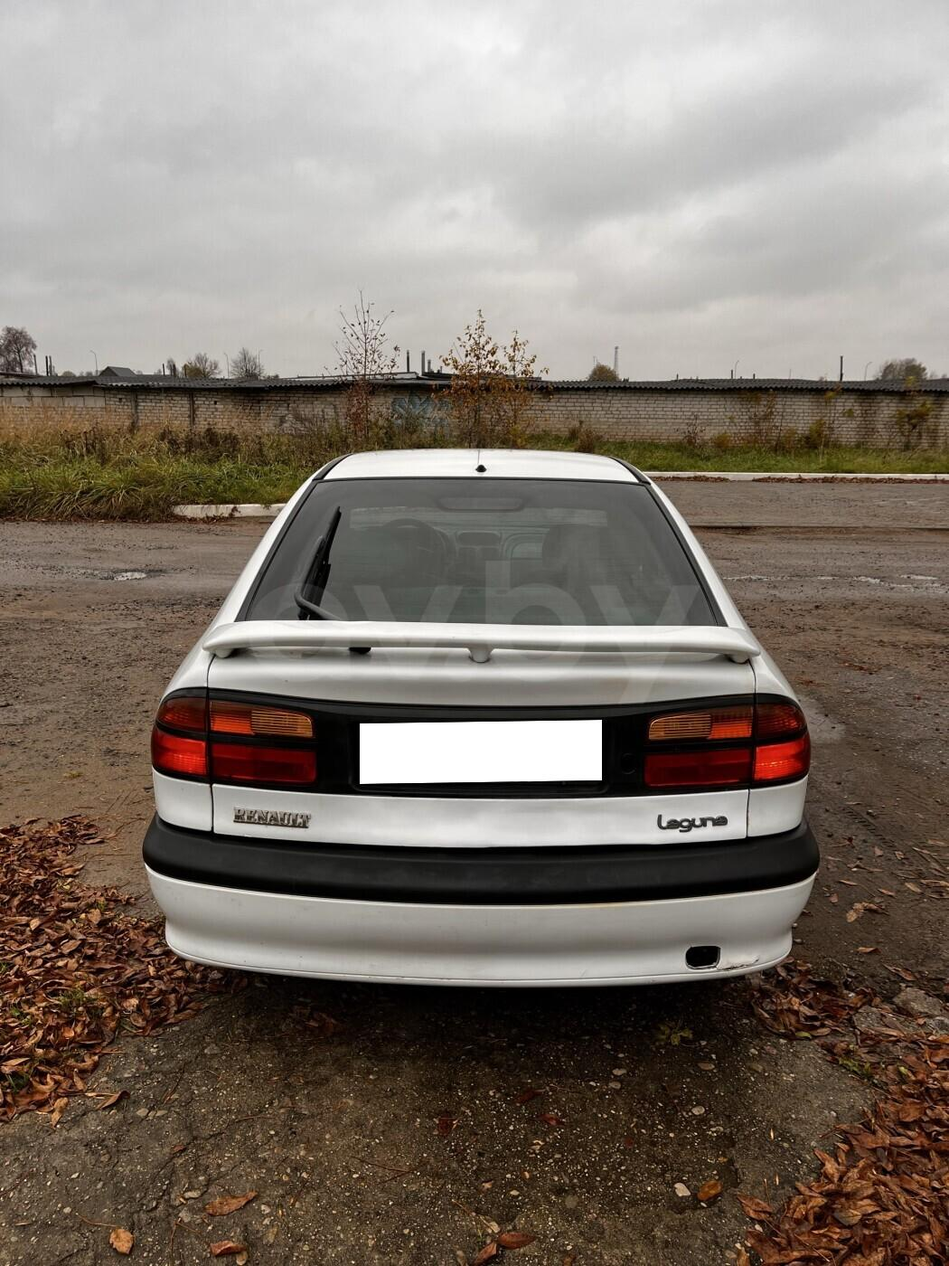Laguna_1998-2001: (137, 443, 832, 1031)
